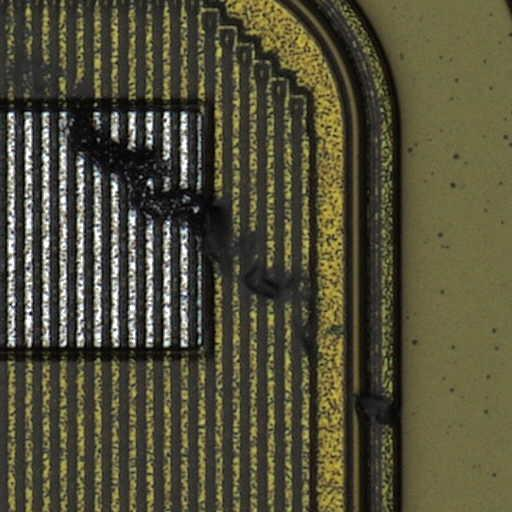SCRATCH: (1, 39, 414, 431)
